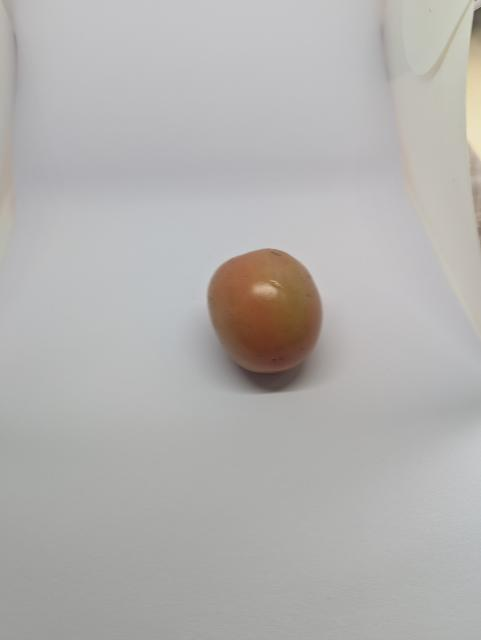turning: (198, 236, 336, 378)
